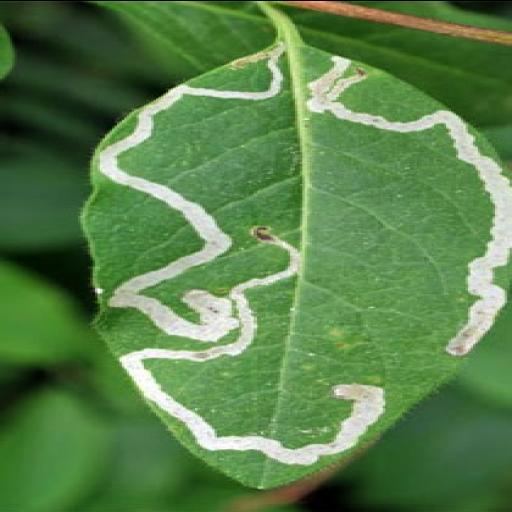Leaf Miner: (81, 44, 512, 490)
